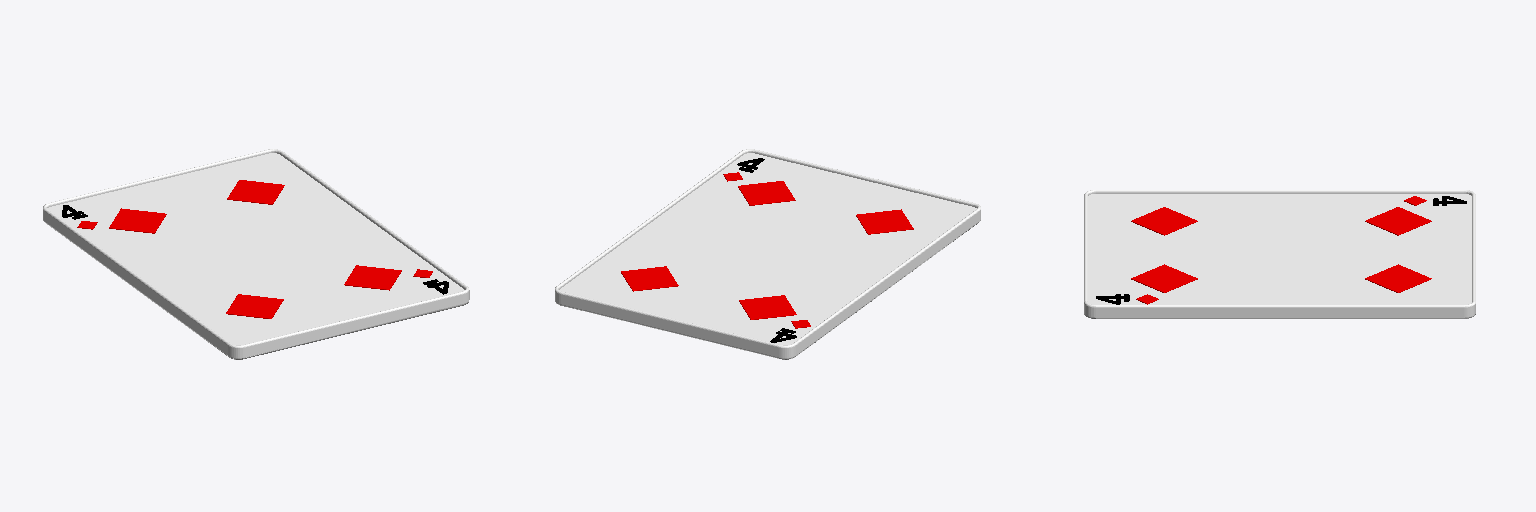
Rendered from diamonds_4.obj.
The picture shows the model from 3 angles: view 1: azimuth 30°, elevation 25°; view 2: azimuth 150°, elevation 25°; view 3: azimuth 270°, elevation 25°; orthographic projection.
Visible parts, largest first — view 1: rect4266.016, rect4266.070, path4884-1-4.003, path4884-1-4-9.001, path4884-1.003, path4884-1-40.001, rect4266.110; view 2: rect4266.016, rect4266.070, path4884-1-4.003, path4884-1.003, path4884-1-40.001, path4884-1-4-9.001; view 3: rect4266.016, rect4266.070, path4884-1.003, path4884-1-4.003, path4884-1-40.001, path4884-1-4-9.001.
Boxes of the visible parts, <box> form: rect4266.016: <box>47,153,464,344</box>; rect4266.070: <box>43,149,469,358</box>; path4884-1-4.003: <box>226,294,283,318</box>; path4884-1-4-9.001: <box>344,265,401,290</box>; path4884-1.003: <box>109,208,166,233</box>; path4884-1-40.001: <box>227,180,284,204</box>; rect4266.110: <box>46,223,468,359</box>; rect4266.016: <box>559,153,976,344</box>; rect4266.070: <box>555,149,980,358</box>; path4884-1-4.003: <box>856,209,913,234</box>; path4884-1.003: <box>739,295,796,319</box>; path4884-1-40.001: <box>621,266,678,291</box>; path4884-1-4-9.001: <box>738,181,795,205</box>; rect4266.016: <box>1088,194,1471,304</box>; rect4266.070: <box>1084,190,1475,318</box>; path4884-1.003: <box>1365,207,1431,235</box>; path4884-1-4.003: <box>1131,207,1197,235</box>; path4884-1-40.001: <box>1365,264,1431,292</box>; path4884-1-4-9.001: <box>1131,264,1197,292</box>.
Bounding box in the file's own units: 2.88 × 0.1966 × 4.08.